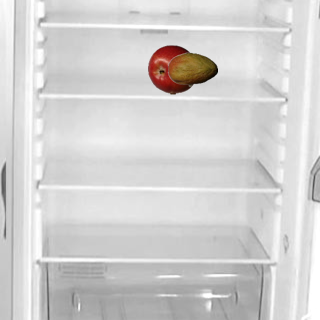Apple Braeburn: (147, 44, 197, 94)
Papaya: (167, 44, 217, 94)
